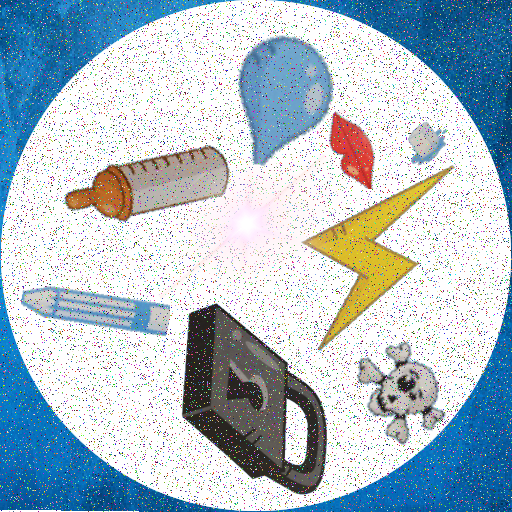bottle_icon: (62, 98, 234, 270)
cube_icon: (398, 115, 450, 167)
lightning_icon: (272, 142, 488, 358)
lips_icon: (317, 109, 397, 189)
lock_icon: (153, 297, 354, 498)
pen_icon: (21, 234, 170, 383)
raindrop_icon: (212, 33, 346, 167)
skull_icon: (348, 338, 460, 450)
